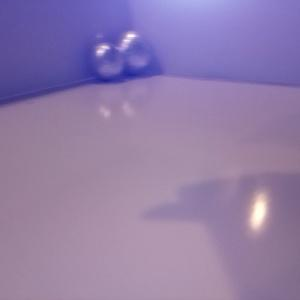alive_ball: (116, 30, 153, 73), (89, 41, 123, 78)
